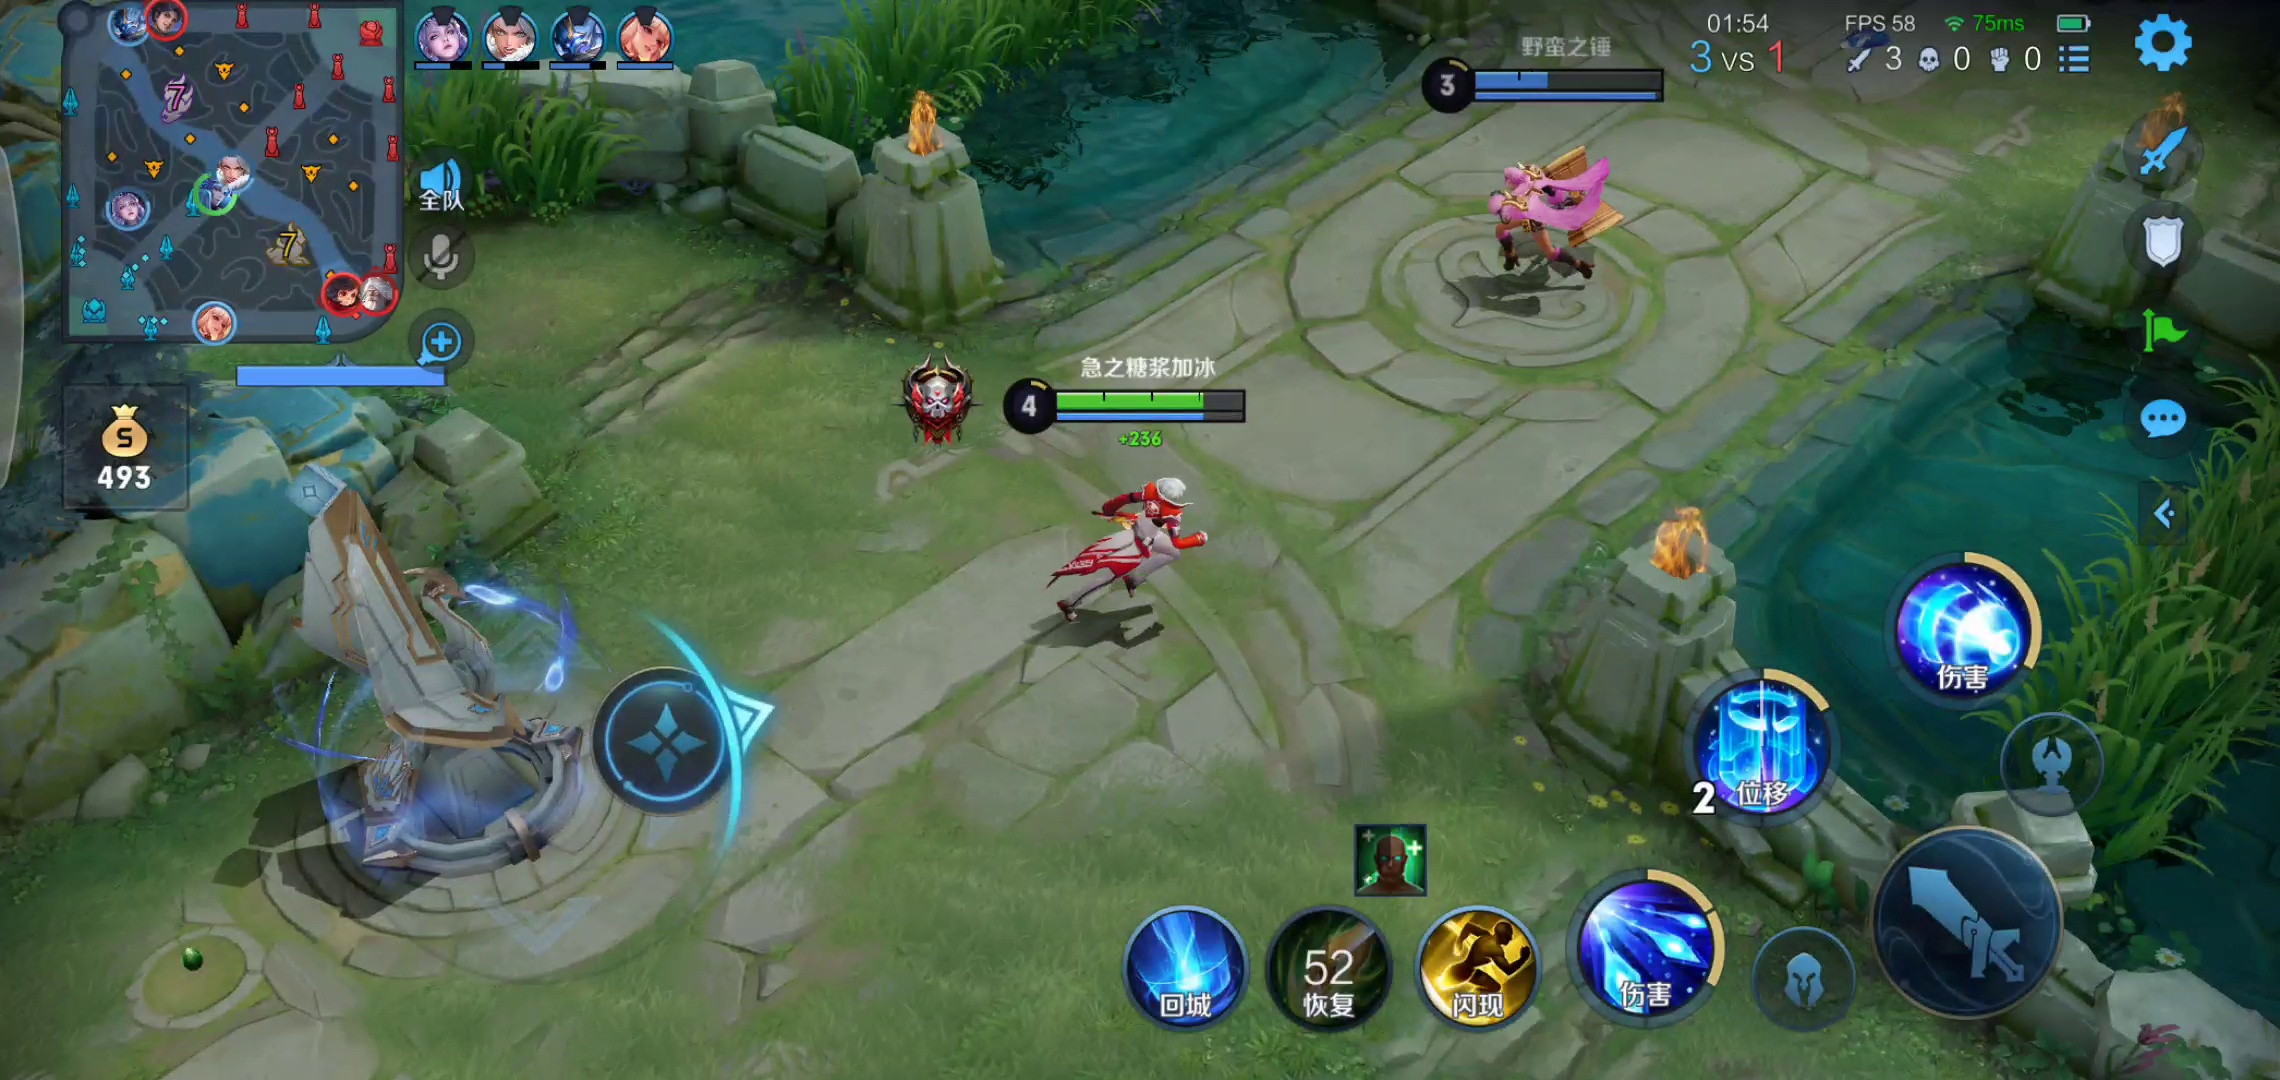grass: (1986, 382, 2280, 827), (760, 1, 1187, 150), (382, 81, 627, 227)
hero: (1043, 452, 1208, 640), (1463, 129, 1637, 298)
tower: (260, 487, 601, 888)
